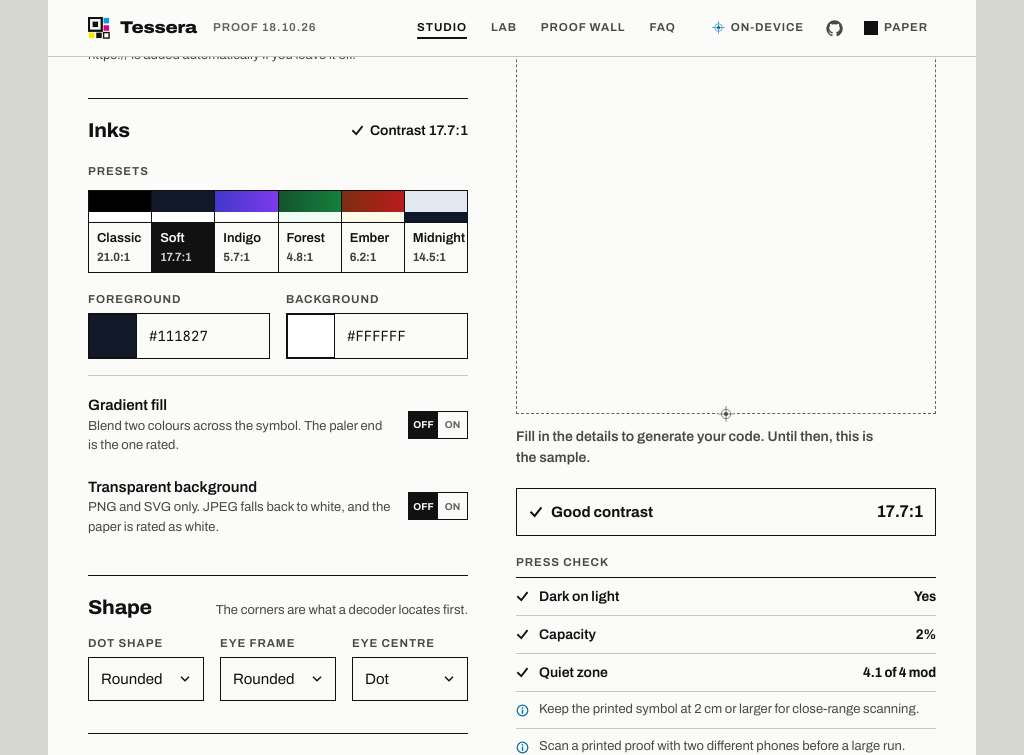
Test: App › swaps the background control for a gradient stop when gradients are on
(page scrolled)
Click the switch labelled "Gradient fill" at point(278, 425), box [88,388,468,462]
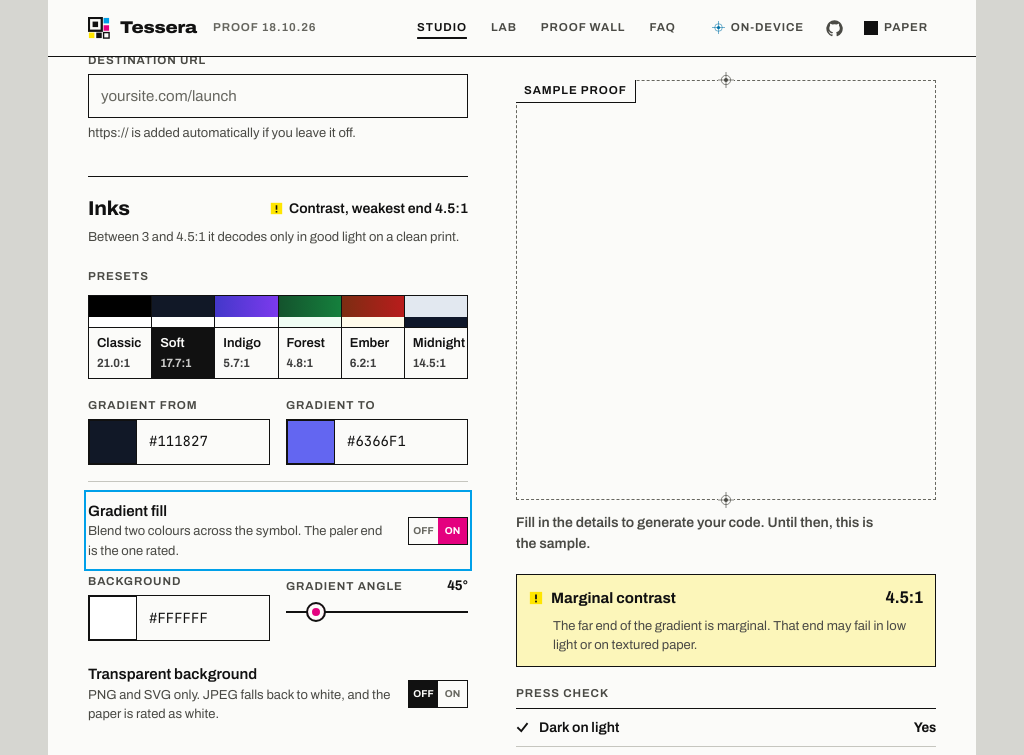
Result: the field named "gradient from hex value" is shown at [137,420,269,464]
Result: the field named "gradient to hex value" is shown at [335,420,467,464]
